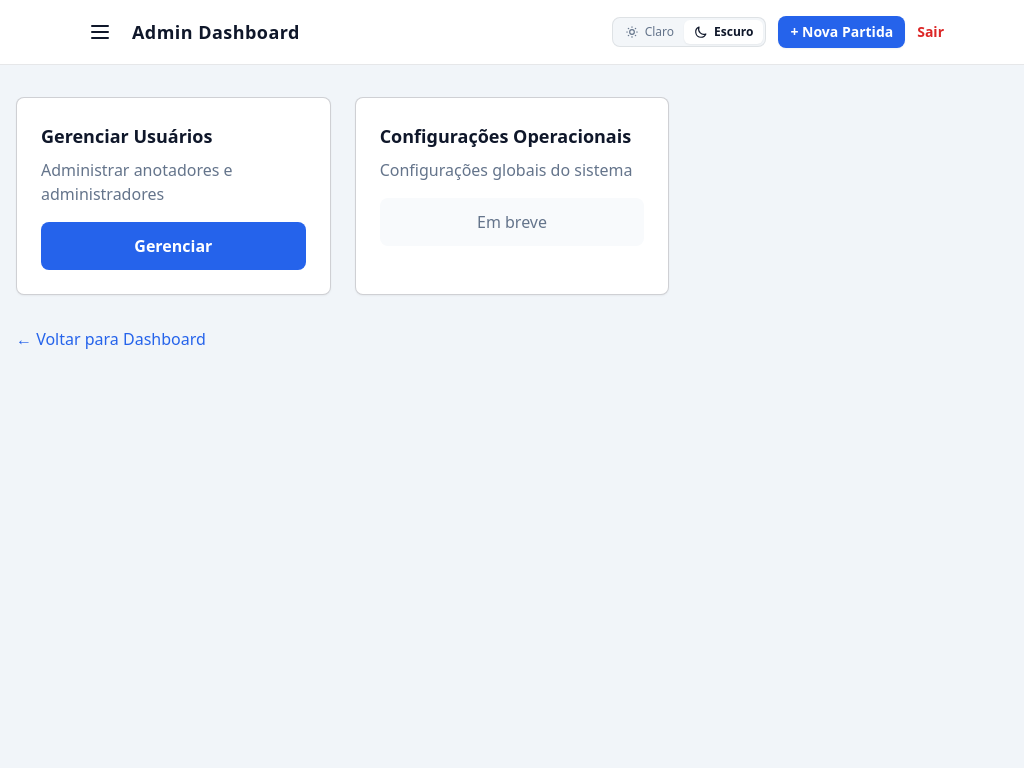
Scenario: AdminPage — confirmações com alertdialog (sem confirm() nativo) › Excluir usuário › mostra o usuário no alertdialog e NÃO exclui antes de confirmar
Click the button "Gerenciar". click: (173, 246)
box: [41, 222, 306, 270]
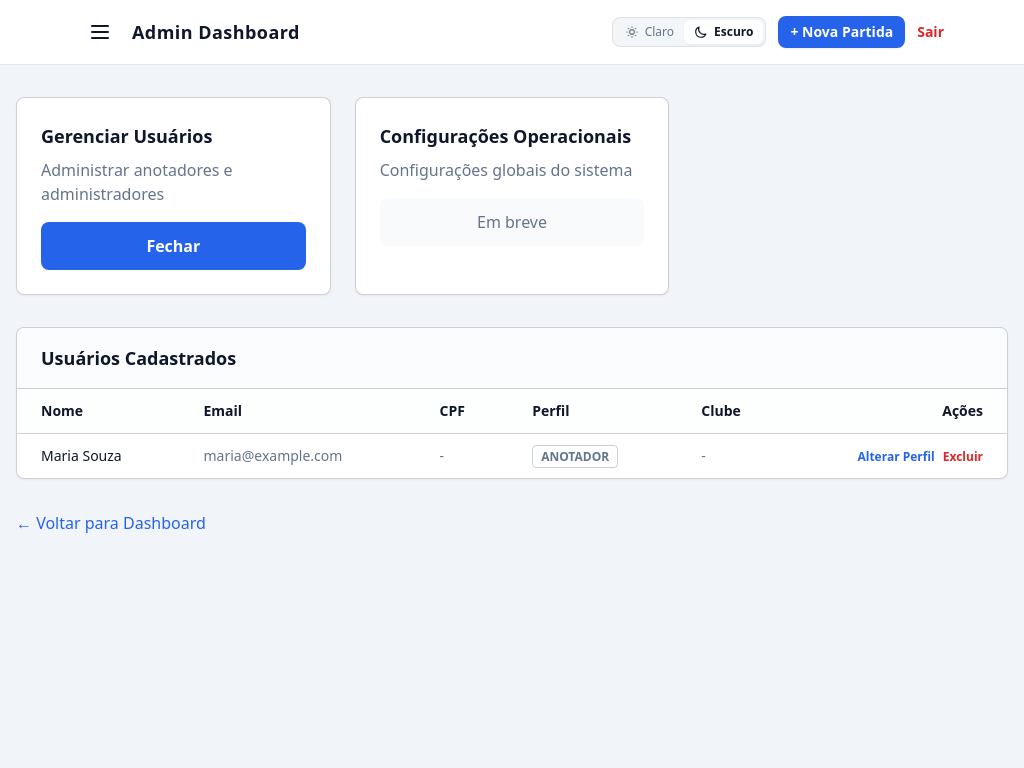
Expected: the text "Maria Souza" is shown, [17, 434, 180, 478]
Click the button "Excluir". click: (963, 457)
box: [943, 449, 983, 465]
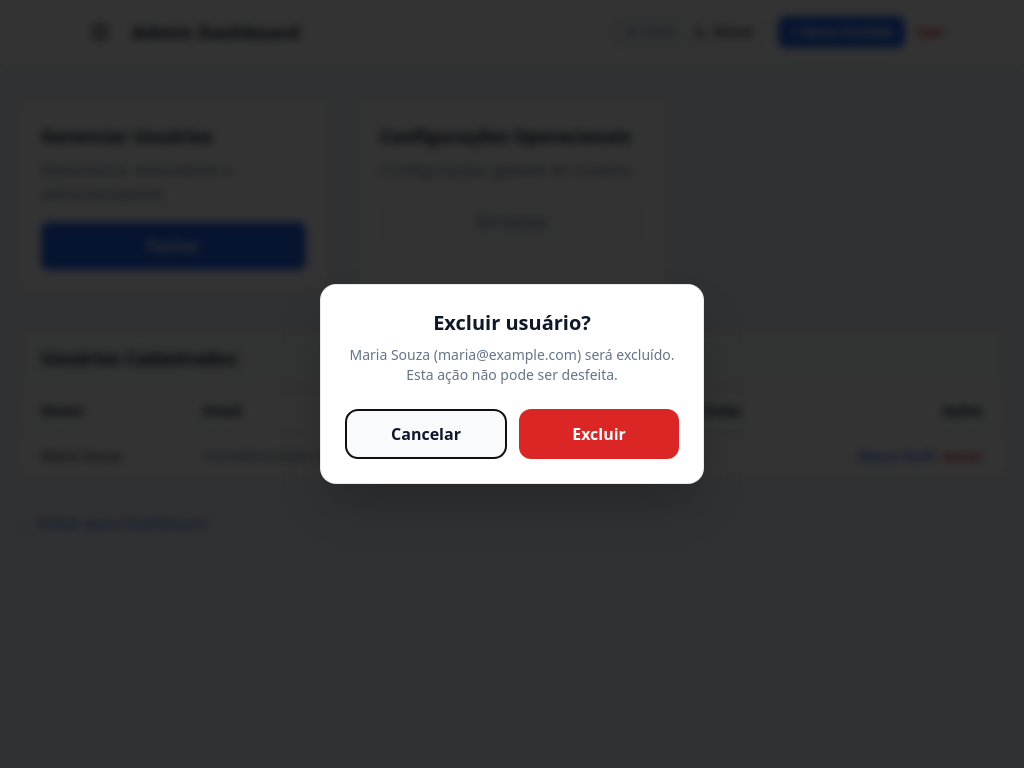
Expected: the dialog "Excluir usuário?" shows "Maria Souza", [350, 345, 674, 384]
Expected: the dialog "Excluir usuário?" shows "maria@example.com", [350, 345, 674, 384]
